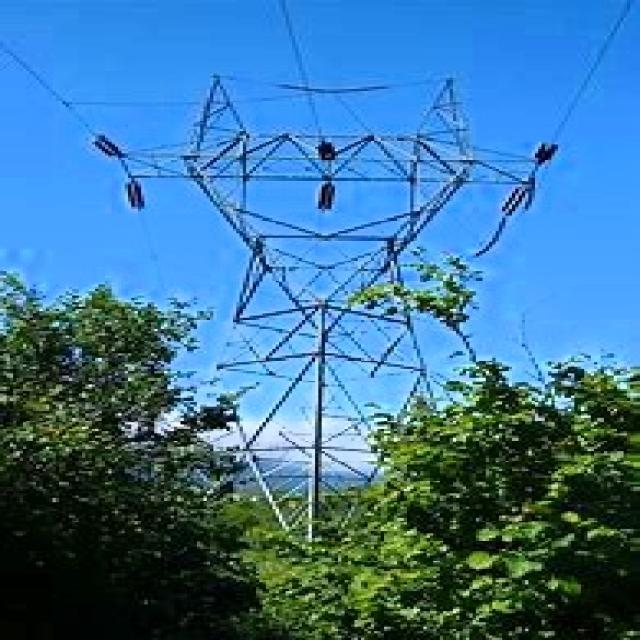utility poles: (120, 284, 294, 494), (314, 263, 528, 431)
